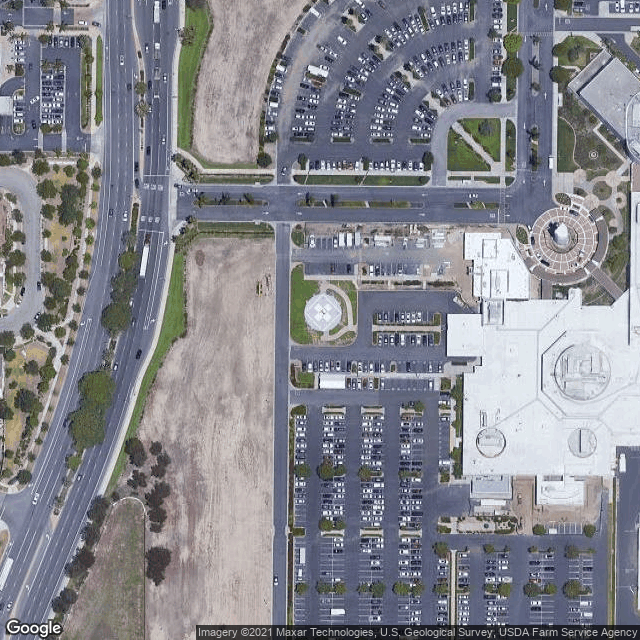Helipad: (302, 289, 343, 334)
